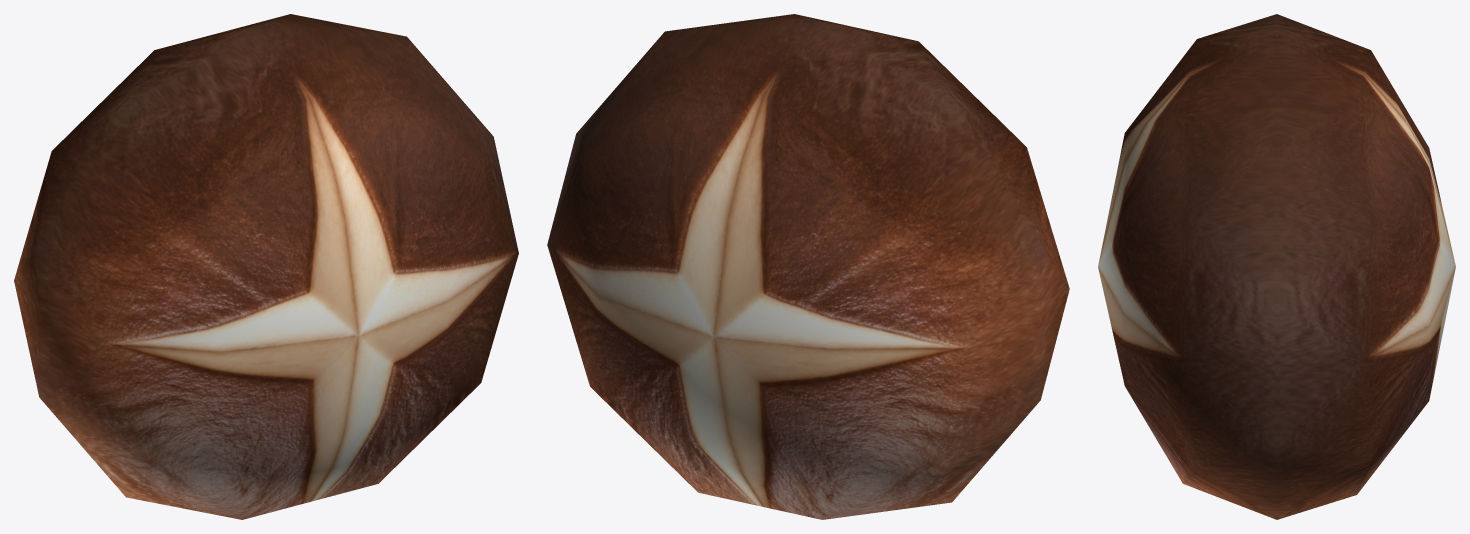
Rendered from shiitake.glb.
The picture shows the model from 3 angles, left to right: view 1: azimuth 30°, elevation 25°; view 2: azimuth 150°, elevation 25°; view 3: azimuth 270°, elevation 25°; orthographic projection. The views are drawn at different scales.
Parts seen in each view (by area): view 1: shiitake; view 2: shiitake; view 3: shiitake.
Part boxes in pixels (left/top/right/bottom): shiitake: left=14, top=14, right=518, bottom=519; shiitake: left=547, top=14, right=1069, bottom=519; shiitake: left=1098, top=14, right=1455, bottom=519.
Size of the model in its own units: 0.932 by 0.9501 by 0.6651.
1 material, 1 textured.
